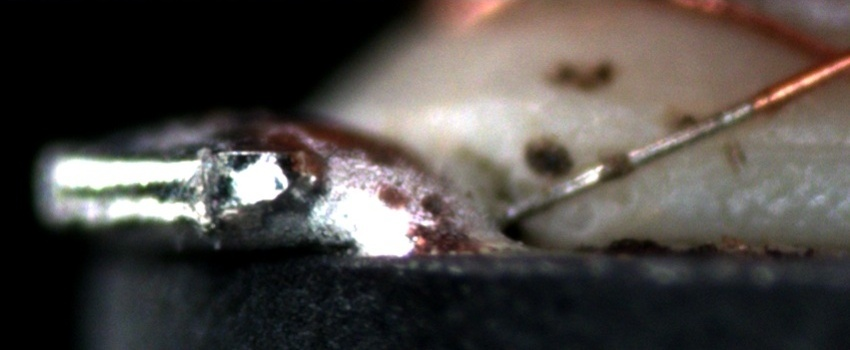DL: (775, 120, 849, 175)
TS: (498, 99, 755, 222)
